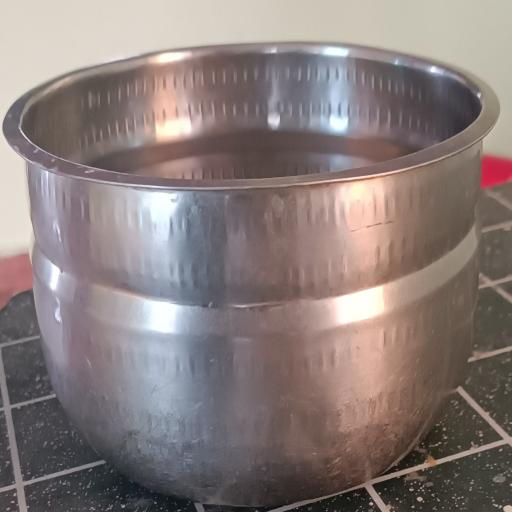vessel: (4, 44, 498, 505)
